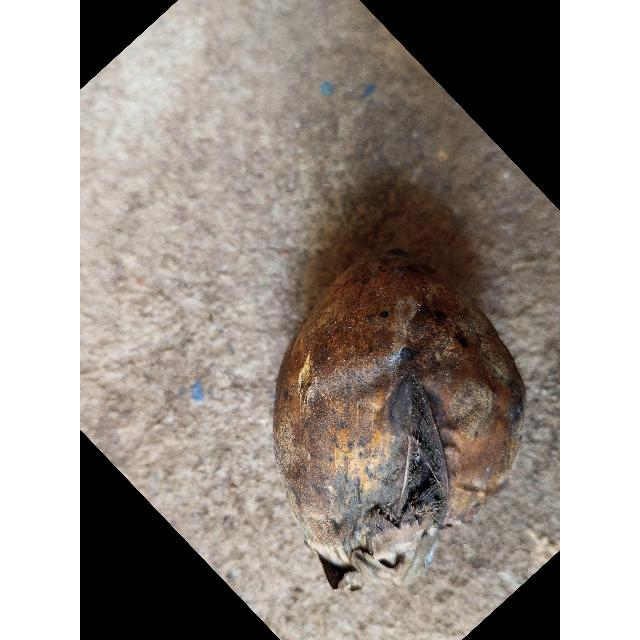damaged: (273, 250, 525, 590)
